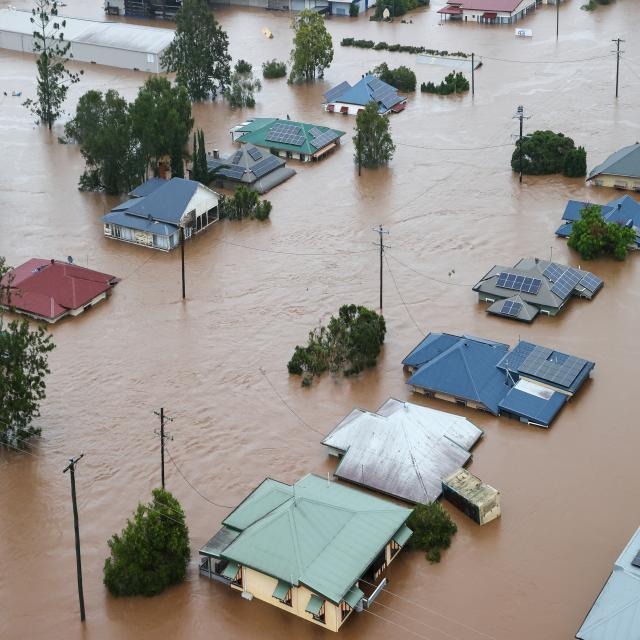flood: (0, 0, 640, 640), (216, 7, 293, 76)
house: (202, 466, 408, 632), (319, 397, 482, 521), (400, 336, 580, 424), (102, 172, 220, 255), (497, 342, 594, 434), (2, 250, 119, 326), (475, 261, 592, 325), (70, 16, 174, 78), (230, 116, 348, 168), (320, 70, 412, 122), (557, 194, 640, 251), (219, 143, 292, 194), (442, 0, 540, 28), (589, 139, 640, 191), (101, 0, 182, 30)
